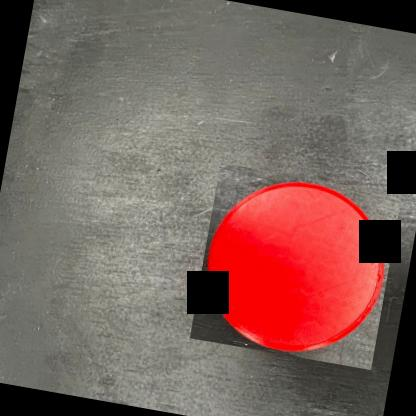red cylinder: (190, 162, 402, 369)
